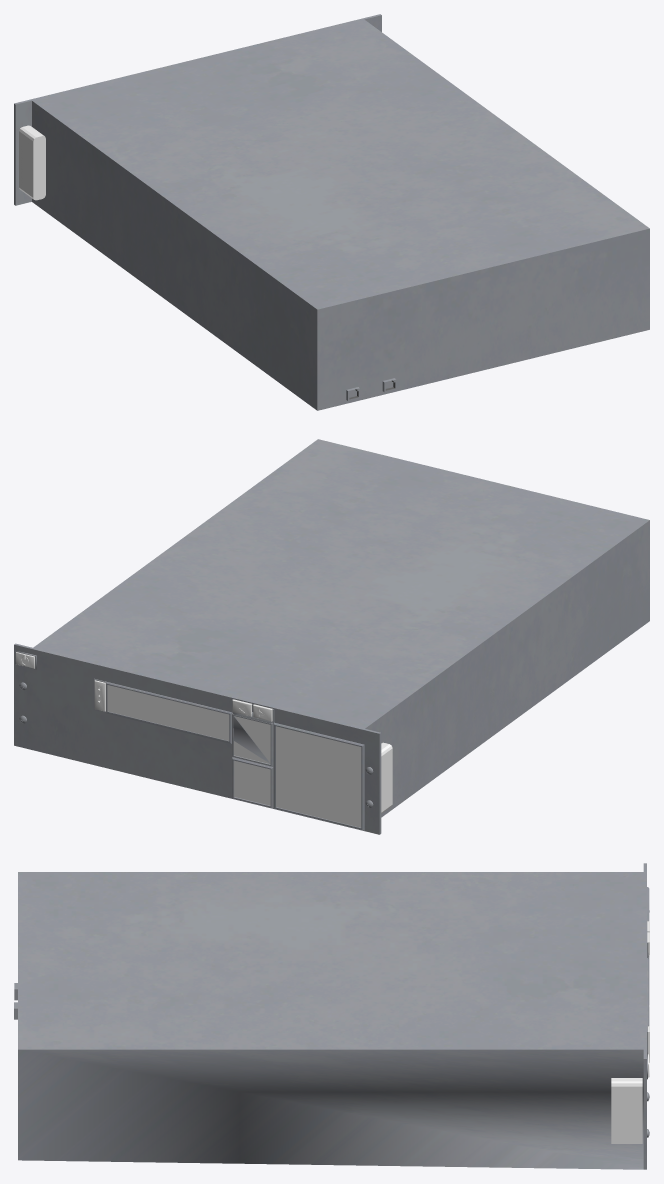
The model's file is Server.Mainframe.3u.glb.
3 renders of one model, top to bottom at view 1: azimuth 30°, elevation 25°; view 2: azimuth 150°, elevation 25°; view 3: azimuth 270°, elevation 25°, orthographic. The views are drawn at different scales.
Visible parts, largest first — view 1: Server.Purple1; view 2: Server.Purple1; view 3: Server.Purple1.
Part boxes in pixels (bbox=[...]): Server.Purple1: bbox=[14, 14, 649, 410]; Server.Purple1: bbox=[14, 439, 649, 834]; Server.Purple1: bbox=[18, 863, 649, 1169].
Size of what is drawn, in the model's own units: 0.4999 by 0.1319 by 0.6862.
Materials: 6 (3 with a texture image).
